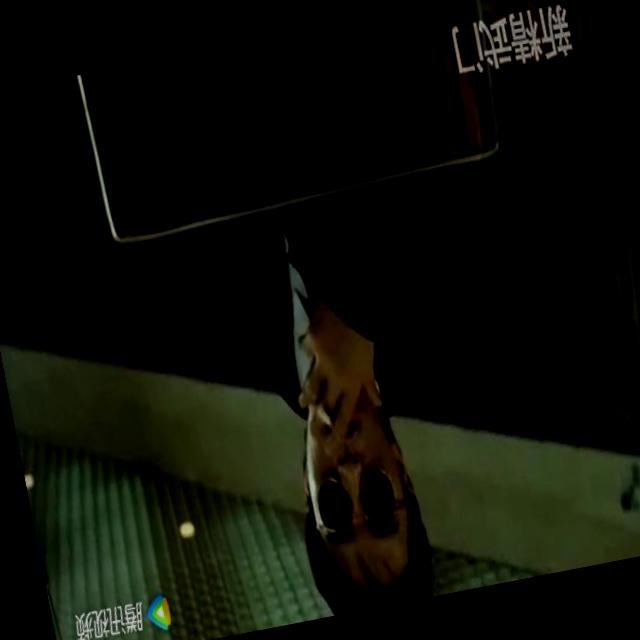smoke: (312, 402, 342, 438)
